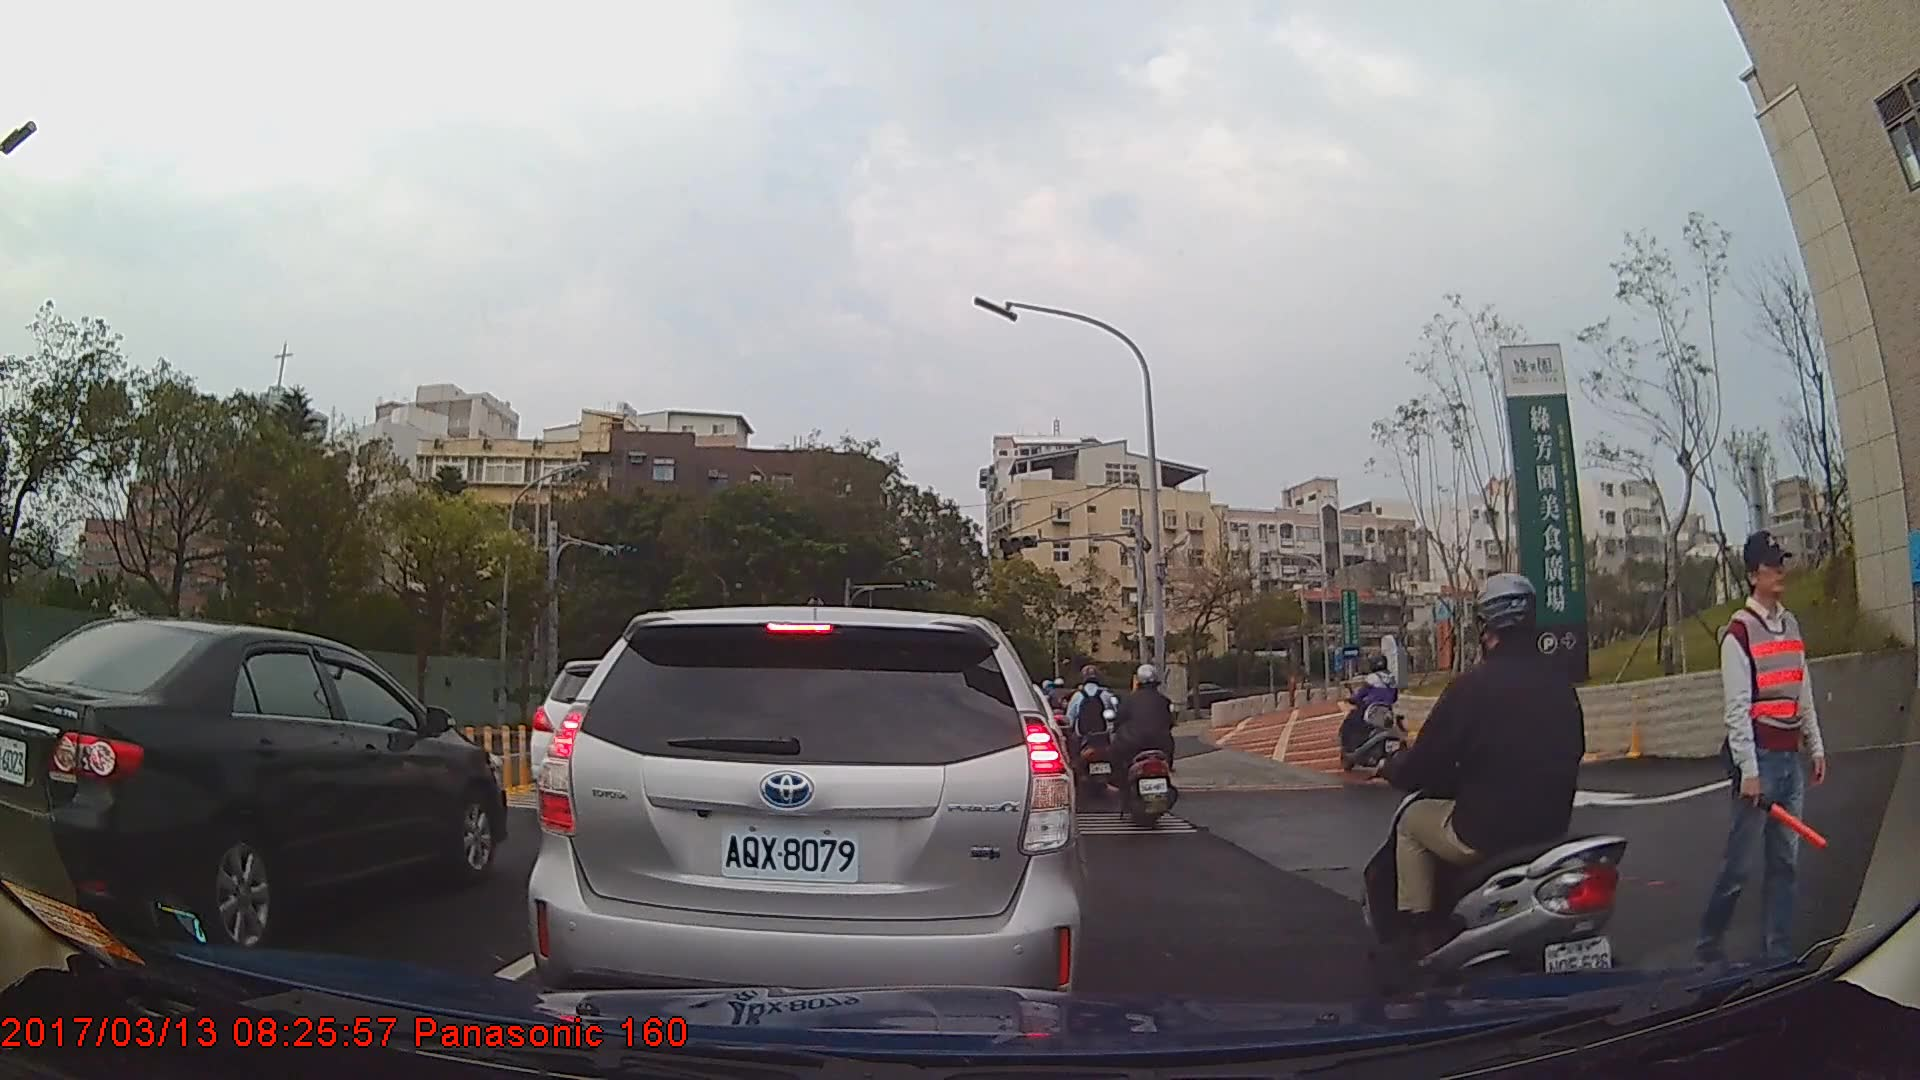pedestrian: (1724, 528, 1842, 973)
rider: (1356, 575, 1636, 1033), (1109, 661, 1181, 833), (1337, 653, 1406, 778), (1064, 663, 1123, 805)
vehicle: (527, 603, 1080, 1030), (0, 615, 505, 948), (1164, 679, 1232, 713)
